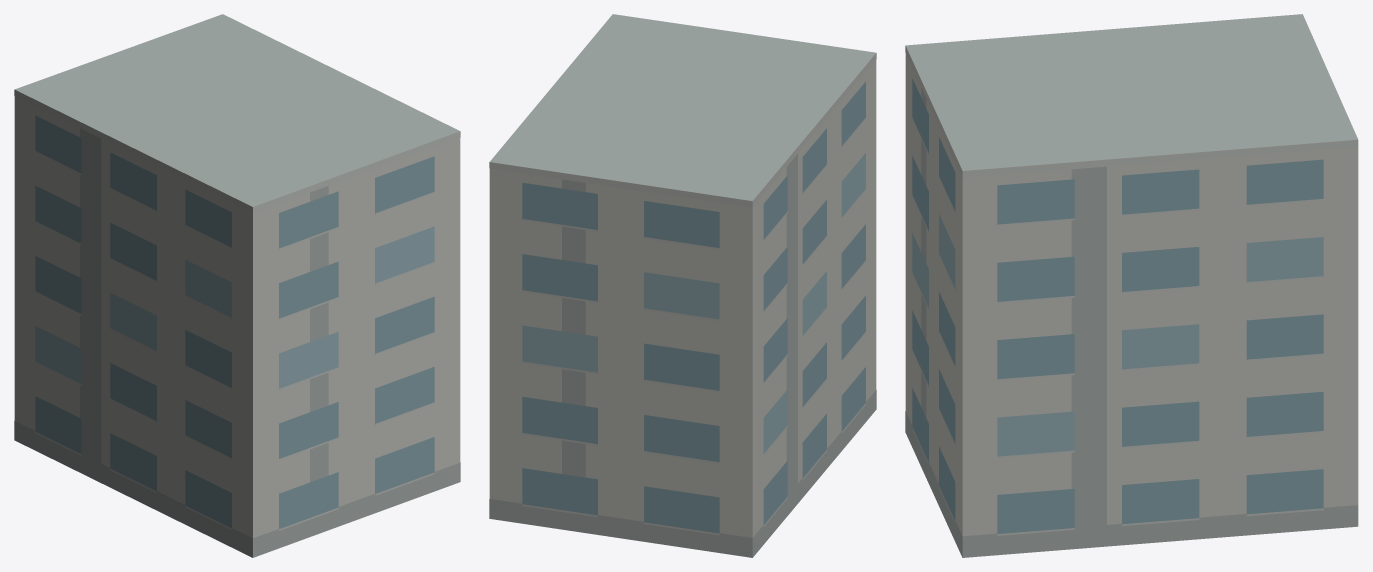
File: survey-upis-32884539.glb
3 renders of one model, left to right at view 1: azimuth 30°, elevation 25°; view 2: azimuth 150°, elevation 25°; view 3: azimuth 270°, elevation 25°, orthographic. The views are drawn at different scales.
Visible parts, largest first — view 1: survey-upis-32884539.tmp; view 2: survey-upis-32884539.tmp; view 3: survey-upis-32884539.tmp.
Boxes of the visible parts, x1=… form: survey-upis-32884539.tmp: x1=14, y1=14, x2=460, y2=557; survey-upis-32884539.tmp: x1=489, y1=14, x2=876, y2=557; survey-upis-32884539.tmp: x1=905, y1=14, x2=1358, y2=557.
Size of the model in its own units: 11.67 by 13.4 by 14.22.
